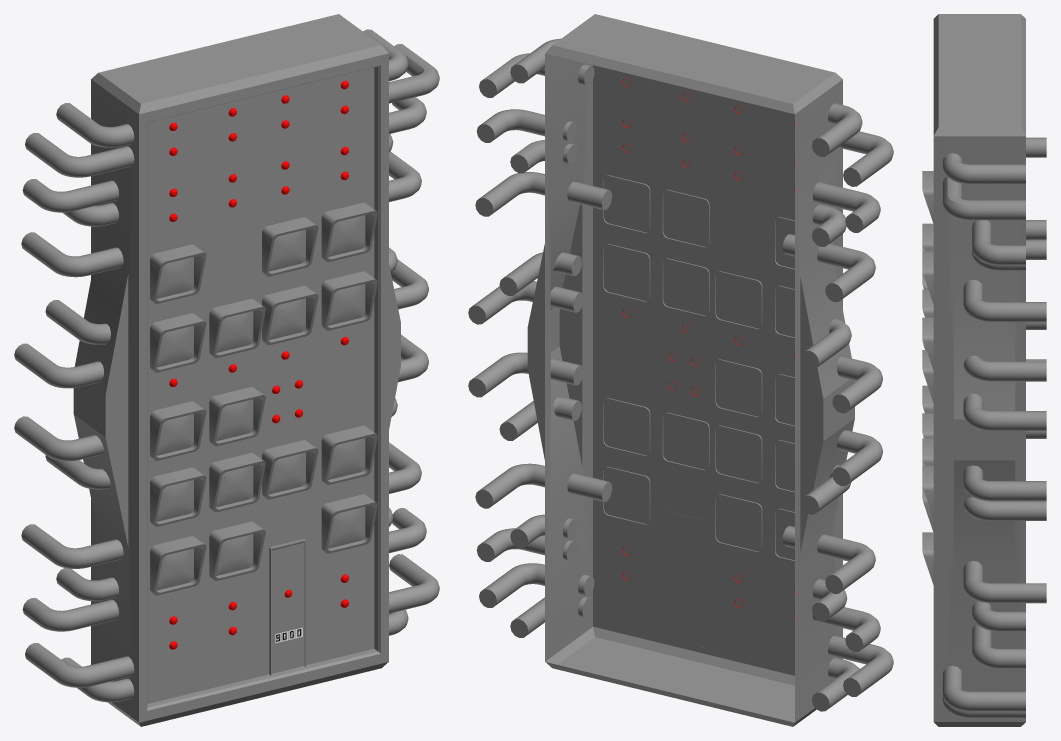
The model's file is COmputerScreen_Super.FBX.
The picture shows the model from 3 angles, left to right: view 1: azimuth 30°, elevation 25°; view 2: azimuth 150°, elevation 25°; view 3: azimuth 270°, elevation 25°; orthographic projection. The views are drawn at different scales.
Visible parts, largest first — view 1: ComputerScreen_Super; view 2: ComputerScreen_Super; view 3: ComputerScreen_Super.
Boxes of the visible parts, <box> form: ComputerScreen_Super: <box>14,14,439,726</box>; ComputerScreen_Super: <box>468,14,893,726</box>; ComputerScreen_Super: <box>922,14,1046,726</box>.
Size of the model in its own units: 465 by 716 by 135.
Materials: 4 (1 with a texture image).
